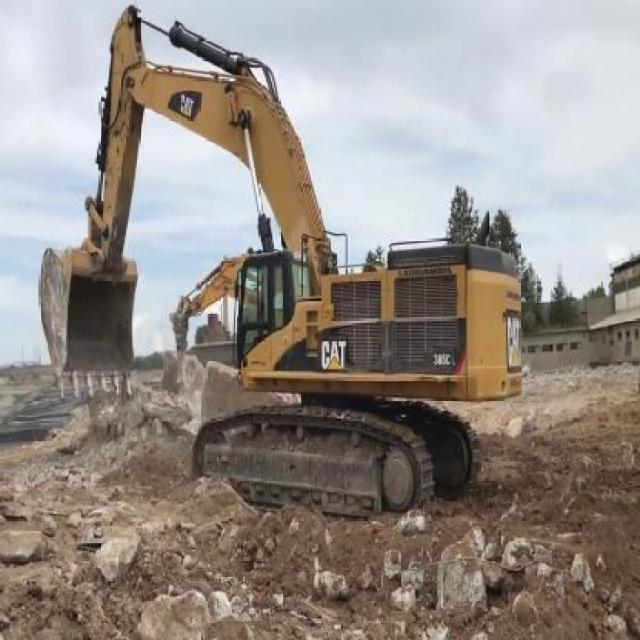excavator: (35, 0, 529, 518)
